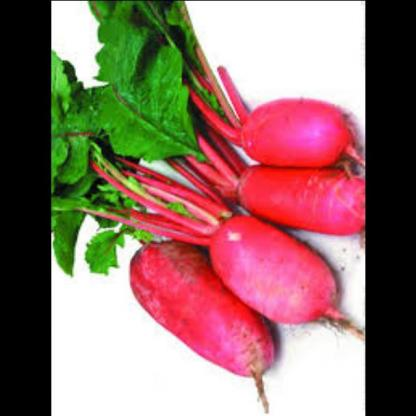redka: (128, 236, 280, 384), (201, 209, 345, 325), (226, 156, 364, 237), (235, 95, 362, 169)
